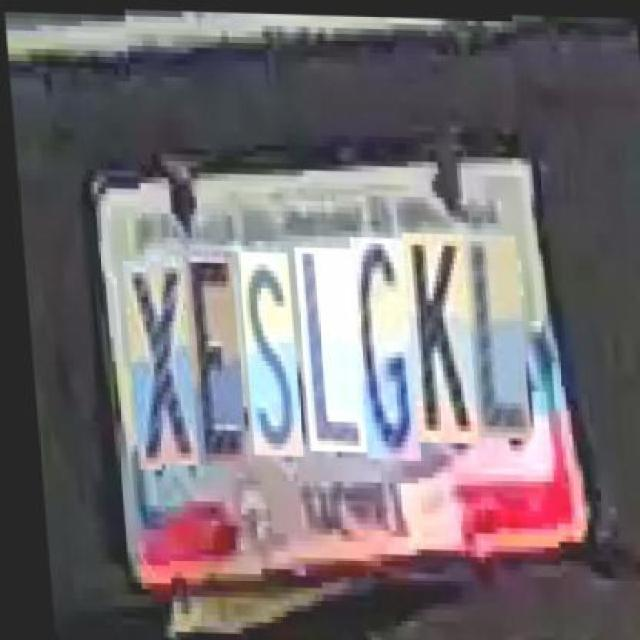e: (178, 249, 240, 466)
g: (345, 235, 413, 458)
k: (398, 230, 472, 441)
l: (289, 245, 360, 450), (458, 232, 524, 436)
s: (233, 250, 296, 455)
x: (119, 253, 192, 464)
